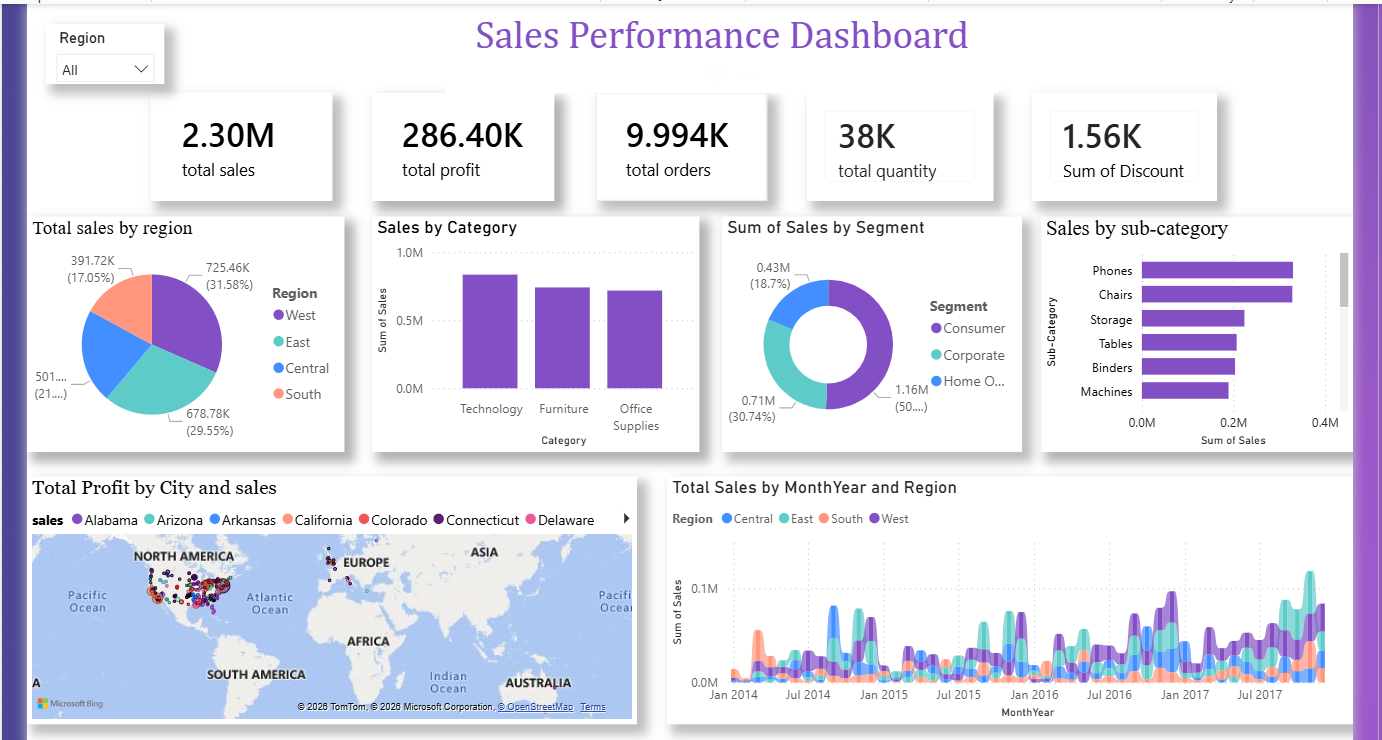

Layout of this report page (visuals, bound fields, positions):
{"tool":"powerbi","page":{"name":"Page 1","canvas":[1280,720],"ordinal":0},"visuals":[{"type":"cardVisual","fields":{"Data":["Sum(Sample - Superstore.Sales)"]},"box":[119.4,85.7,174.9,103.8],"z":0},{"type":"cardVisual","fields":{"Data":["Sum(Sample - Superstore.Profit)"]},"box":[333,85.7,176.1,103.8],"z":1000},{"type":"cardVisual","fields":{"Data":["CountNonNull(Sample - Superstore.Order ID)"]},"box":[548.9,85.7,165.3,103.8],"z":2000},{"type":"clusteredBarChart","title":"Sales by sub-category","fields":{"Category":["Sample - Superstore.Sub-Category"],"Y":["Sum(Sample - Superstore.Sales)"]},"box":[978.4,205.1,301.6,226.8],"z":3000},{"type":"pieChart","title":"Total sales by region","fields":{"Category":["Sample - Superstore.Region"],"Y":["Sum(Sample - Superstore.Sales)"]},"box":[0,205.1,306.4,226.8],"z":4000},{"type":"columnChart","title":"Sales by Category","fields":{"Category":["Sample - Superstore.Category"],"Y":["Sum(Sample - Superstore.Sales)"]},"box":[333,205.1,316.1,226.8],"z":5000},{"type":"slicer","fields":{"Values":["Sample - Superstore.Region"]},"box":[18.1,19.3,114.6,57.9],"z":6000},{"type":"map","title":"Total Profit by City and sales","fields":{"Category":["Sample - Superstore.City"],"Series":["Sample - Superstore.State"],"Size":["Sum(Sample - Superstore.Profit)"]},"box":[0,456,588.7,238.9],"z":7000},{"type":"cardVisual","fields":{"Data":["Sum(Sample - Superstore.Quantity)"]},"box":[752.8,85.7,179.8,103.8],"z":8000},{"type":"cardVisual","fields":{"Data":["Sum(Sample - Superstore.Discount)"]},"box":[970,85.7,178.6,103.8],"z":9000},{"type":"textbox","box":[404.2,6,533.2,79.6],"z":10000},{"type":"donutChart","fields":{"Y":["Sum(Sample - Superstore.Sales)"],"Category":["Sample - Superstore.Segment"]},"box":[670.8,205.1,289.5,226.8],"z":11000},{"type":"ribbonChart","title":"Total Sales by MonthYear and Region","fields":{"Category":["Sample - Superstore.Month"],"Series":["Sample - Superstore.Region"],"Y":["Sum(Sample - Superstore.Sales)"]},"box":[612.9,447.6,667.2,247.3],"z":12000}]}

Visuals, with their boxes on the page's 1280x720 design canvas (x1, y1, x2, y2). These are canvas units, not pixel positions in the 1382x740 screenshot, which may show the page scaled, cropped or inside an application window:
cardVisual - Sum(Sample - Superstore.Sales): BBox(119, 86, 294, 190)
cardVisual - Sum(Sample - Superstore.Profit): BBox(333, 86, 509, 190)
cardVisual - CountNonNull(Sample - Superstore.Order ID): BBox(549, 86, 714, 190)
"Sales by sub-category" clusteredBarChart: BBox(978, 205, 1280, 432)
"Total sales by region" pieChart: BBox(0, 205, 306, 432)
"Sales by Category" columnChart: BBox(333, 205, 649, 432)
slicer - Sample - Superstore.Region: BBox(18, 19, 133, 77)
"Total Profit by City and sales" map: BBox(0, 456, 589, 695)
cardVisual - Sum(Sample - Superstore.Quantity): BBox(753, 86, 933, 190)
cardVisual - Sum(Sample - Superstore.Discount): BBox(970, 86, 1149, 190)
textbox: BBox(404, 6, 937, 86)
donutChart - Sum(Sample - Superstore.Sales) x Sample - Superstore.Segment: BBox(671, 205, 960, 432)
"Total Sales by MonthYear and Region" ribbonChart: BBox(613, 448, 1280, 695)
